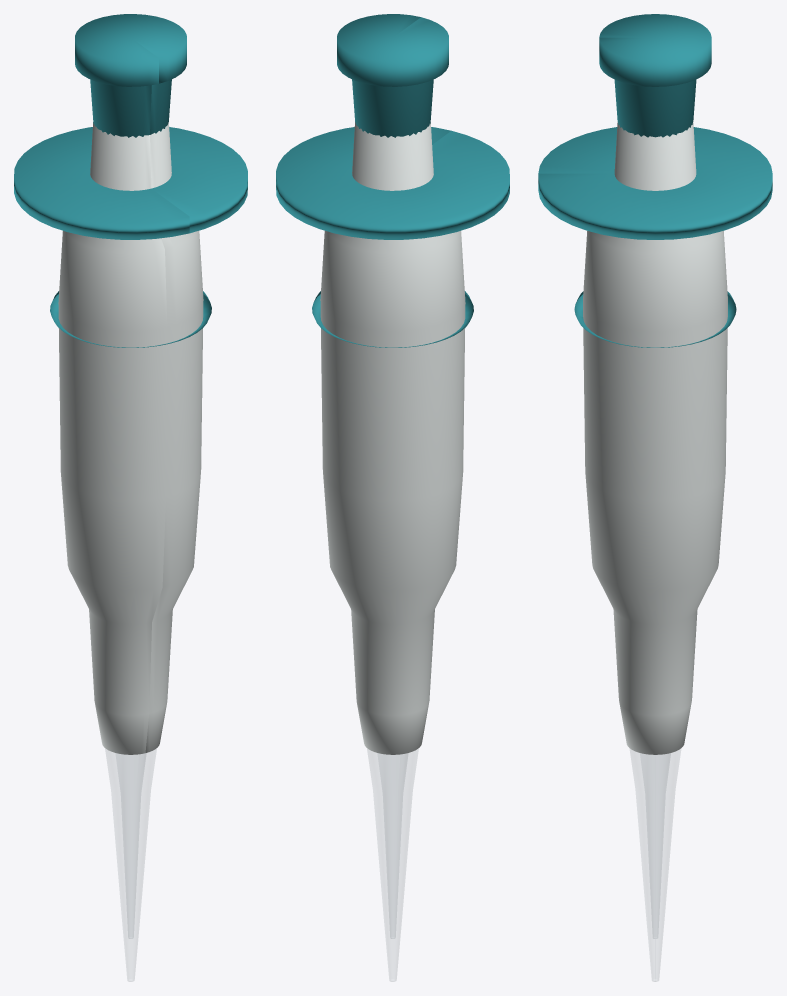
The model's file is micropipette.glb.
3 views of the same model, side by side, from view 1: azimuth 30°, elevation 25°; view 2: azimuth 150°, elevation 25°; view 3: azimuth 270°, elevation 25° (orthographic).
Parts seen in each view (by area): view 1: Body, FingerRest, Plunger, DisposableTip, GripRing; view 2: Body, FingerRest, Plunger, DisposableTip, GripRing; view 3: Body, FingerRest, Plunger, DisposableTip, GripRing.
Boxes of the visible parts, x1,y1,x2,y2 form: Body: (58, 122, 203, 754); FingerRest: (14, 127, 247, 239); Plunger: (75, 14, 186, 137); DisposableTip: (105, 748, 156, 981); GripRing: (50, 291, 211, 347); Body: (320, 122, 465, 754); FingerRest: (276, 127, 509, 239); Plunger: (337, 14, 448, 137); DisposableTip: (367, 748, 418, 981); GripRing: (312, 291, 473, 347); Body: (583, 122, 727, 754); FingerRest: (538, 127, 772, 239); Plunger: (599, 14, 711, 137); DisposableTip: (630, 749, 680, 981); GripRing: (574, 291, 736, 347).
Size of the model in its own units: 0.5 by 2.22 by 0.5.
